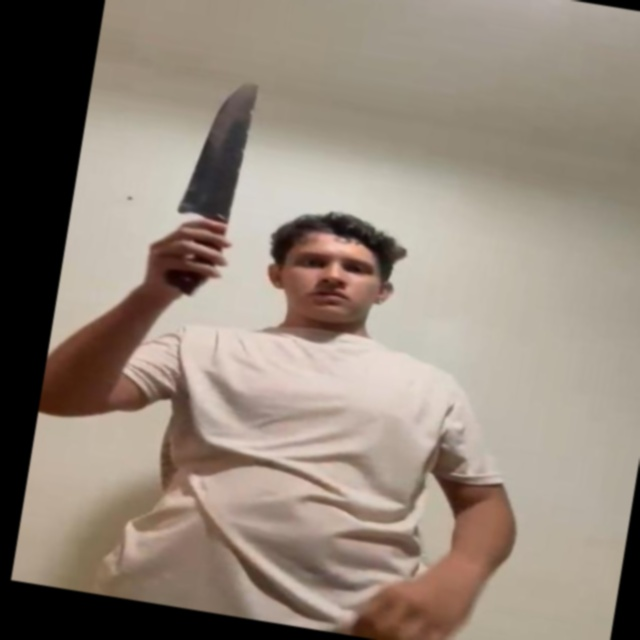Sharp-Object: (180, 74, 258, 224)
